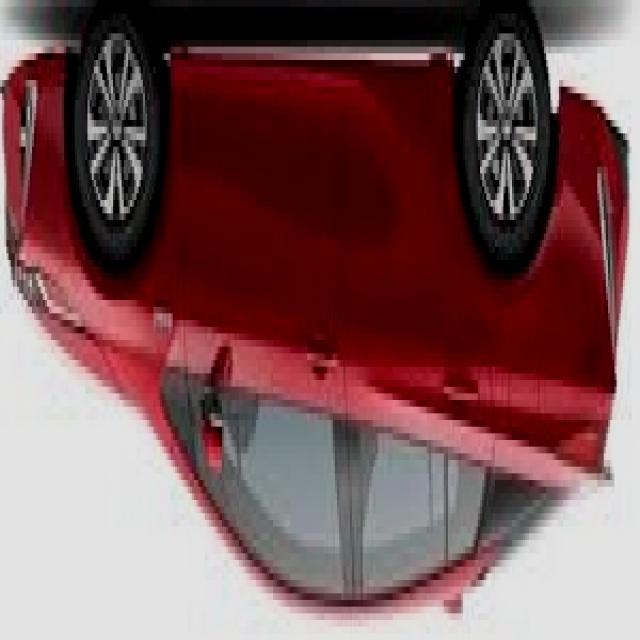maroon: (4, 33, 632, 612)
